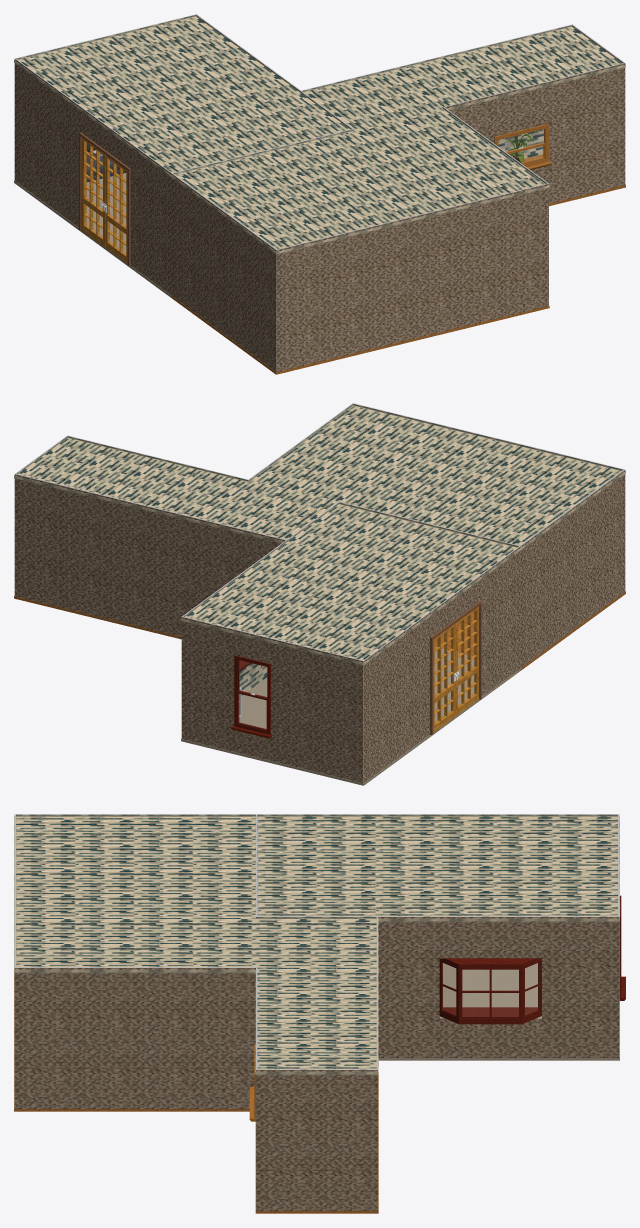
The model's file is ProcTHOR-Train-159.glb.
3 views of the same model, one above another, from view 1: azimuth 30°, elevation 25°; view 2: azimuth 150°, elevation 25°; view 3: azimuth 270°, elevation 25° (orthographic). The views are drawn at different scales.
Parts seen in each view (by area): view 1: Ceiling#room|2|c, WallInside#wall|exterior|4.10|10.24|10.24|10.24, Ceiling#room|3|c, WallInside#wall|exterior|10.24|0.00|10.24|6.14, WallInside#wall|exterior|0.00|6.14|4.10|6.14, WallInside#wall|exterior|10.24|6.14|10.24|10.24, Doorway_Door_5b, Doorway_Door_5a, Floor#room|2|f, Floor#room|3|f, WallInside#wall|2|0.00|4.10|6.14|4.10, Doorway_Double_5 (+1 smaller); view 2: Ceiling#room|2|c, Ceiling#room|3|c, WallInside#wall|exterior|0.00|4.10|6.14|4.10, WallInside#wall|exterior|6.14|0.00|10.24|0.00, WallInside#wall|exterior|10.24|0.00|10.24|6.14, WallInside#wall|exterior|10.24|6.14|10.24|10.24, Floor#room|3|f, Doorway_Door_5a, Doorway_Door_5b, Floor#room|2|f, Window_Hung_32x60, Doorway_Double_5 (+2 smaller); view 3: Ceiling#room|2|c, Ceiling#room|3|c, WallInside#wall|exterior|4.10|6.14|4.10|10.24, WallInside#wall|exterior|6.14|0.00|6.14|4.10, WallInside#wall|exterior|0.00|4.10|0.00|6.14, Floor#room|3|f, Window_Bay_2, Floor#room|2|f, WallInside#wall|3|10.24|0.00|10.24|6.14, WallInside#wall|2|10.24|6.14|10.24|10.24.
Boxes of the visible parts, box(x1,y1,x2,y2) form: Ceiling#room|2|c: box(171, 27, 625, 254); WallInside#wall|exterior|4.10|10.24|10.24|10.24: box(276, 183, 548, 372); Ceiling#room|3|c: box(14, 16, 350, 177); WallInside#wall|exterior|10.24|0.00|10.24|6.14: box(14, 59, 171, 294); WallInside#wall|exterior|0.00|6.14|4.10|6.14: box(444, 63, 625, 203); WallInside#wall|exterior|10.24|6.14|10.24|10.24: box(171, 173, 276, 371); Doorway_Door_5b: box(81, 137, 105, 247); Doorway_Door_5a: box(105, 154, 127, 263); Floor#room|2|f: box(171, 154, 625, 374); Floor#room|3|f: box(14, 173, 171, 297); WallInside#wall|2|0.00|4.10|6.14|4.10: box(301, 24, 572, 158); Doorway_Double_5: box(79, 132, 130, 265); Ceiling#room|2|c: box(14, 405, 625, 550); Ceiling#room|3|c: box(181, 504, 521, 665); WallInside#wall|exterior|0.00|4.10|6.14|4.10: box(14, 474, 285, 636); WallInside#wall|exterior|6.14|0.00|10.24|0.00: box(181, 617, 363, 783); WallInside#wall|exterior|10.24|0.00|10.24|6.14: box(363, 546, 520, 782); WallInside#wall|exterior|10.24|6.14|10.24|10.24: box(521, 470, 625, 667); Floor#room|3|f: box(181, 647, 521, 785); Doorway_Door_5a: box(455, 606, 478, 715); Doorway_Door_5b: box(433, 623, 455, 732); Floor#room|2|f: box(14, 591, 625, 670); Window_Hung_32x60: box(231, 655, 271, 738); Doorway_Double_5: box(430, 601, 481, 734); Ceiling#room|2|c: box(14, 816, 378, 1074); Ceiling#room|3|c: box(255, 816, 619, 921); WallInside#wall|exterior|4.10|6.14|4.10|10.24: box(14, 967, 256, 1108); WallInside#wall|exterior|6.14|0.00|6.14|4.10: box(378, 916, 619, 1057); WallInside#wall|exterior|0.00|4.10|0.00|6.14: box(256, 1069, 377, 1210); Floor#room|3|f: box(378, 963, 619, 1060); Window_Bay_2: box(439, 958, 541, 1024); Floor#room|2|f: box(14, 973, 378, 1213); WallInside#wall|3|10.24|0.00|10.24|6.14: box(257, 814, 618, 816); WallInside#wall|2|10.24|6.14|10.24|10.24: box(16, 814, 255, 816).
Size of what is drawn, in the model's own units: 10.34 by 2.69 by 10.38.
Materials: 187 (103 with a texture image).
